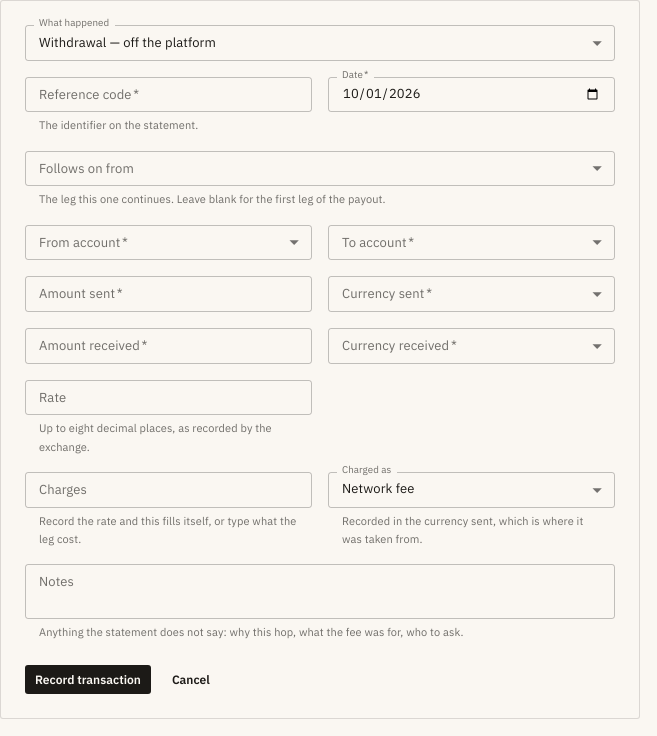
Test: RecordTransactionForm › does not let a sale be given a destination amount
Expected: the dropdown named "From account" next to "From account" is shown, [25,225,312,260]
Step 1. Click the dropdown named "What happened" → {"x": 128, "y": 42}, box [39,34,216,50]
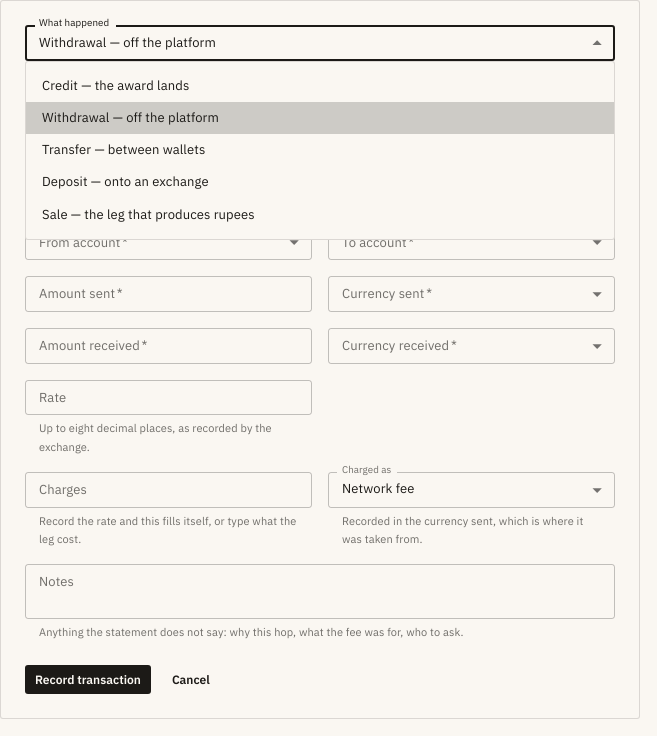
Step 2. Click the option "Sale — the leg that produces rupees" → {"x": 148, "y": 214}, box [42,206,255,223]
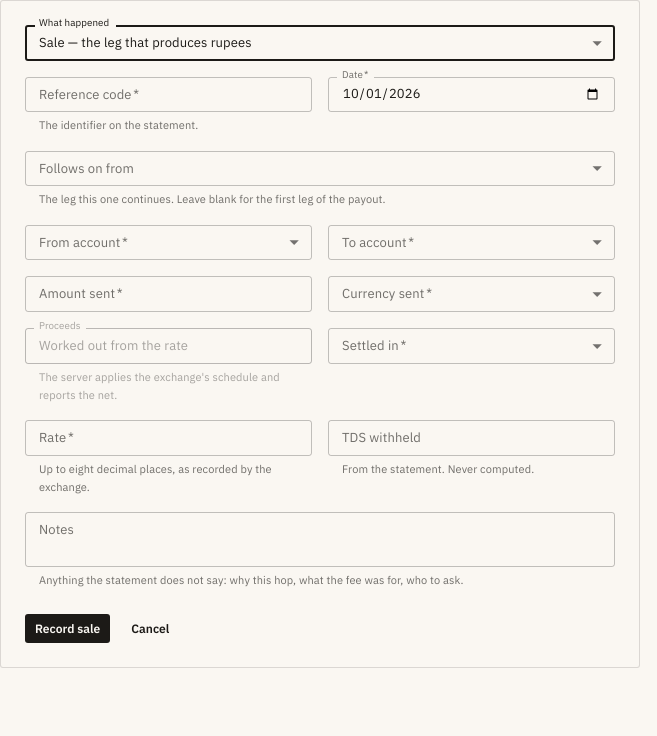
Now the label labelled "Amount received" is gone
Now the field showing "Worked out from the rate" is shown, box [25,328,312,364]
